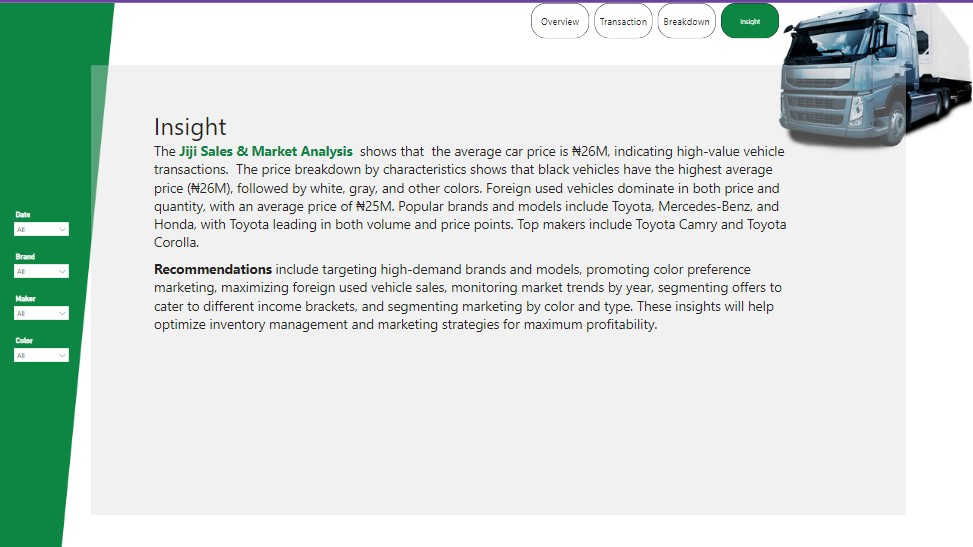

This screenshot's page, from the dashboard's own definition file:
{"tool":"powerbi","page":{"name":"Insight","canvas":[1920,1080],"ordinal":3},"visuals":[{"type":"pageNavigator","box":[1048.1,0,493.2,70.2],"z":0},{"type":"slicer","fields":{"Values":["Brand.Brand"]},"box":[17,486.9,127.6,82.9],"z":1000},{"type":"slicer","fields":{"Values":["Maker.Maker"]},"box":[17,569.8,127.6,82.9],"z":2000},{"type":"slicer","fields":{"Values":["Maker.Color"]},"box":[17,652.7,127.6,82.9],"z":3000},{"type":"slicer","fields":{"Values":["calender.Date"]},"box":[17,403.9,127.6,82.9],"z":4000},{"type":"textbox","box":[259.4,187.1,1318.1,548.5],"z":5000}]}

Visuals, with their boxes on the page's 1920x1080 design canvas (x1, y1, x2, y2). These are canvas units, not pixel positions in the 973x547 screenshot, which may show the page scaled, cropped or inside an application window:
pageNavigator: bbox(1048, 0, 1541, 70)
slicer - Brand.Brand: bbox(17, 487, 145, 570)
slicer - Maker.Maker: bbox(17, 570, 145, 653)
slicer - Maker.Color: bbox(17, 653, 145, 736)
slicer - calender.Date: bbox(17, 404, 145, 487)
textbox: bbox(259, 187, 1578, 736)
